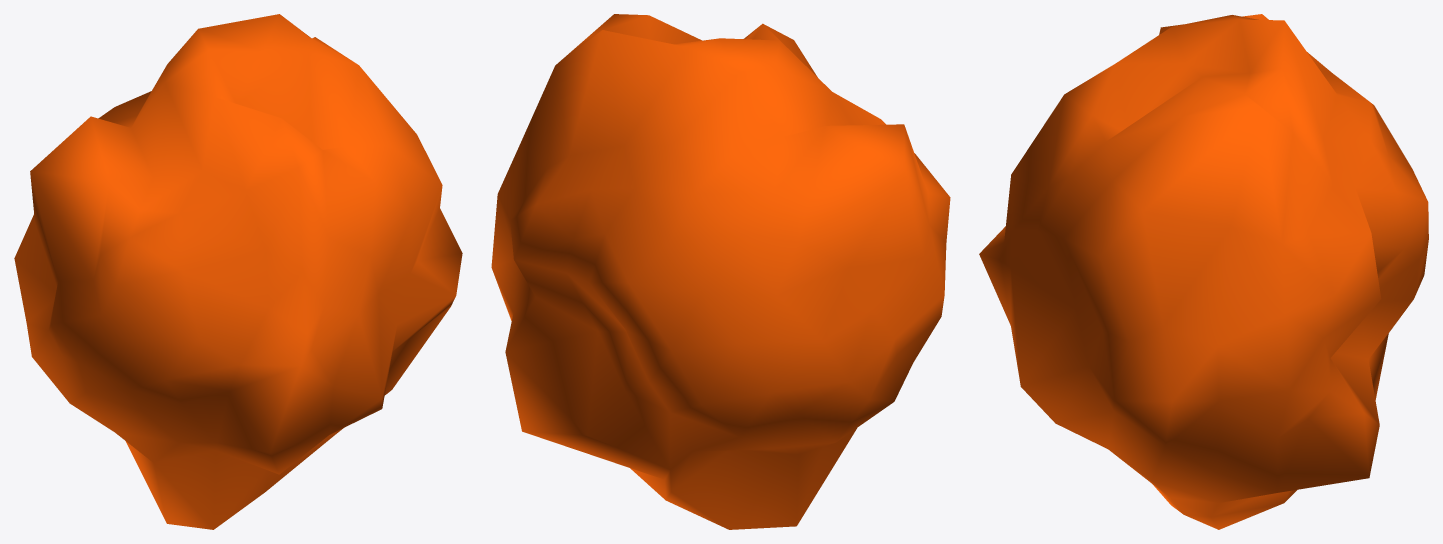
The model's file is asteroid_03.fbx.
3 views of the same model, side by side, from view 1: azimuth 30°, elevation 25°; view 2: azimuth 150°, elevation 25°; view 3: azimuth 270°, elevation 25° (orthographic). The views are drawn at different scales.
Parts seen in each view (by area): view 1: Icosphere; view 2: Icosphere; view 3: Icosphere.
Part boxes in pixels (x1=…): Icosphere: x1=14, y1=14, x2=462, y2=529; Icosphere: x1=491, y1=14, x2=950, y2=529; Icosphere: x1=979, y1=14, x2=1428, y2=529.
Size of the model in its own units: 1.92 by 2.09 by 1.66.
1 material, 1 textured.
